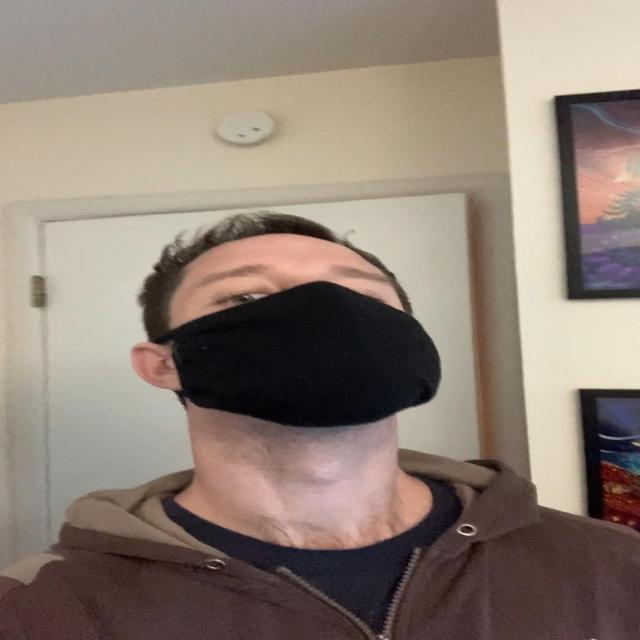no-helmet: (125, 217, 444, 438)
